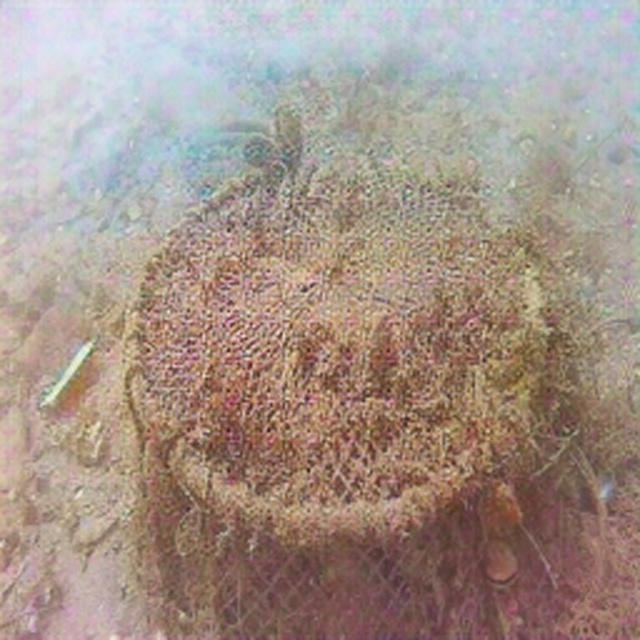mine: (122, 151, 548, 639)
